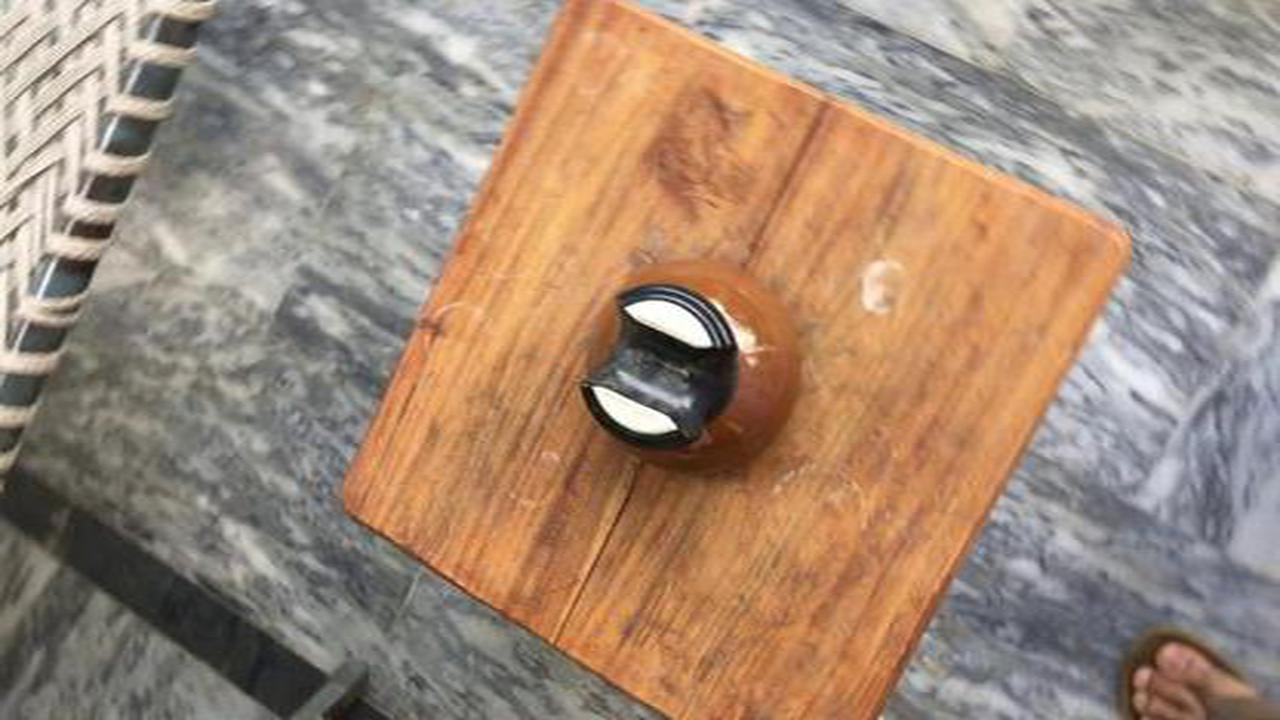insulator_pin: (554, 260, 828, 485)
